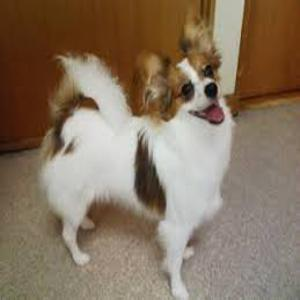yell: (39, 9, 233, 299)
